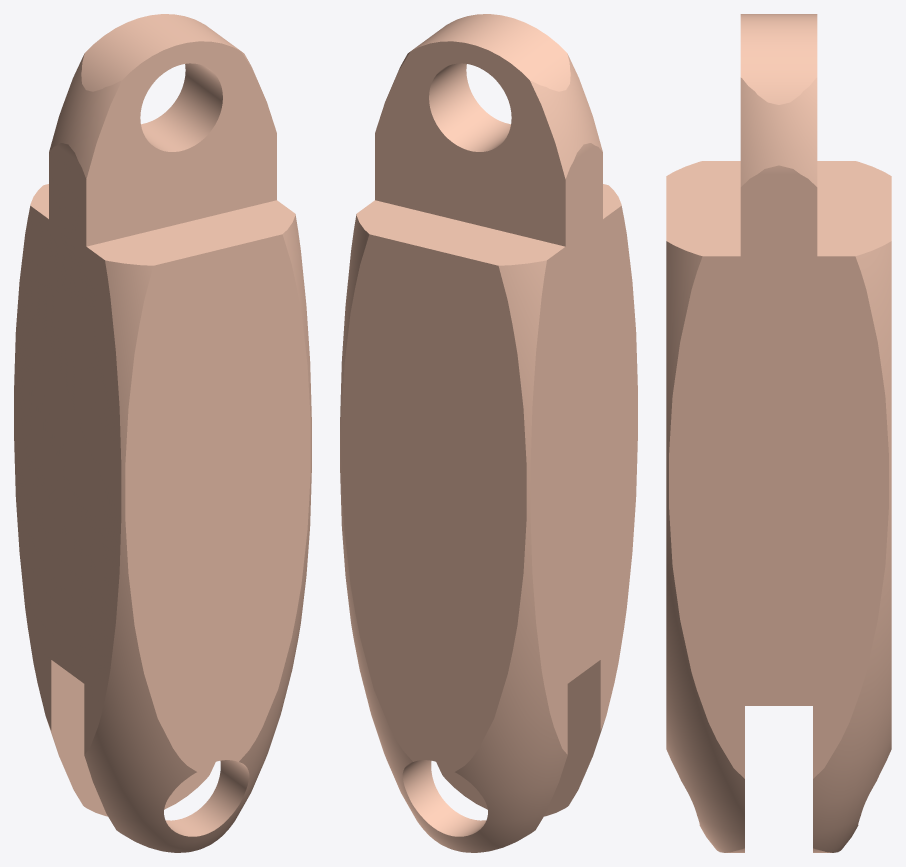
The model's file is phalange4x1.glb.
The picture shows the model from 3 angles, left to right: view 1: azimuth 30°, elevation 25°; view 2: azimuth 150°, elevation 25°; view 3: azimuth 270°, elevation 25°; orthographic projection. The views are drawn at different scales.
Bounding box in the file's own units: 1 × 4 × 1.
